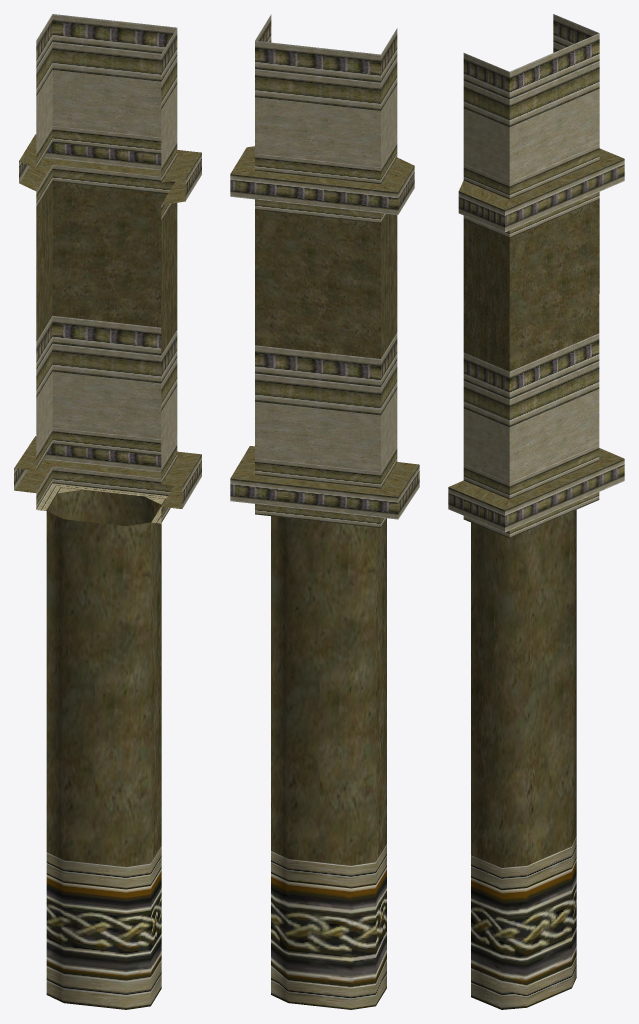
Rendered from CH09_SMAUG_PLAYSURFACE_LAIR61.fbx.
3 renders of one model, left to right at view 1: azimuth 30°, elevation 25°; view 2: azimuth 210°, elevation 25°; view 3: azimuth 270°, elevation 25°, orthographic.
Parts seen in each view (by area): view 1: CH09_SMAUG_PLAYSURFACE_LAIR61; view 2: CH09_SMAUG_PLAYSURFACE_LAIR61; view 3: CH09_SMAUG_PLAYSURFACE_LAIR61.
Boxes of the visible parts, box(x1,y1,x2,y2) form: CH09_SMAUG_PLAYSURFACE_LAIR61: box(14, 14, 201, 1009); CH09_SMAUG_PLAYSURFACE_LAIR61: box(230, 14, 419, 1009); CH09_SMAUG_PLAYSURFACE_LAIR61: box(448, 14, 624, 1009).
Bounding box in the file's own units: 40464 × 237612 × 40088.
6 materials, 6 textured.
